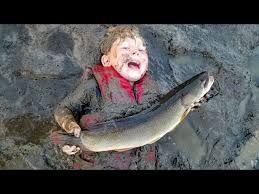Mudfish: (66, 72, 215, 154)
